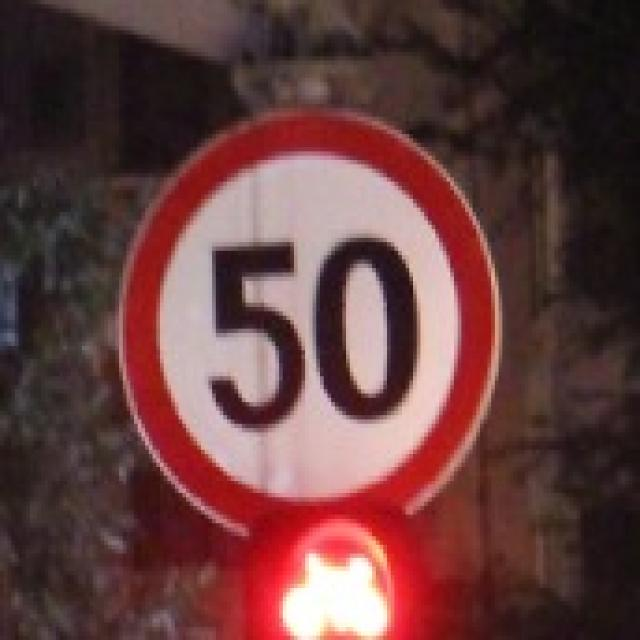Speed Limit -50-: (206, 230, 422, 432)
